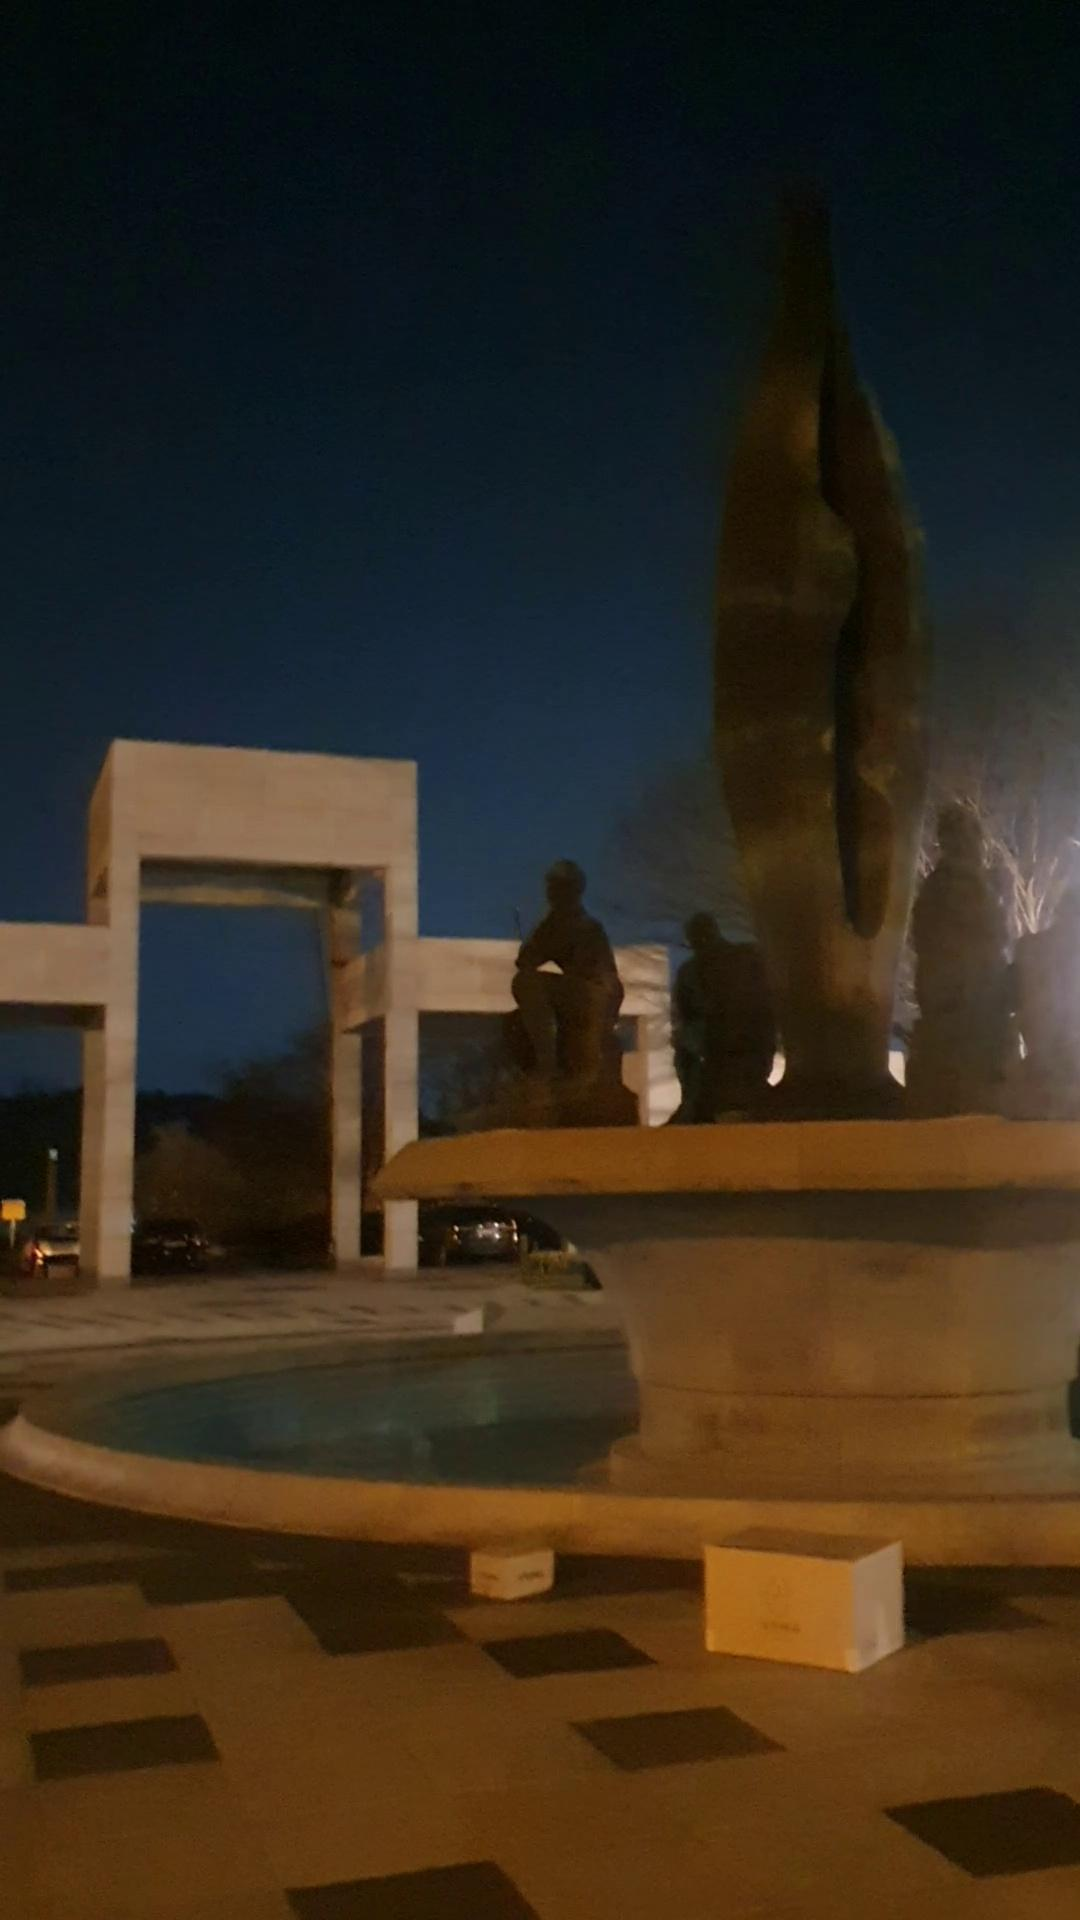Box: (696, 1513, 913, 1669), (468, 1535, 555, 1605)
